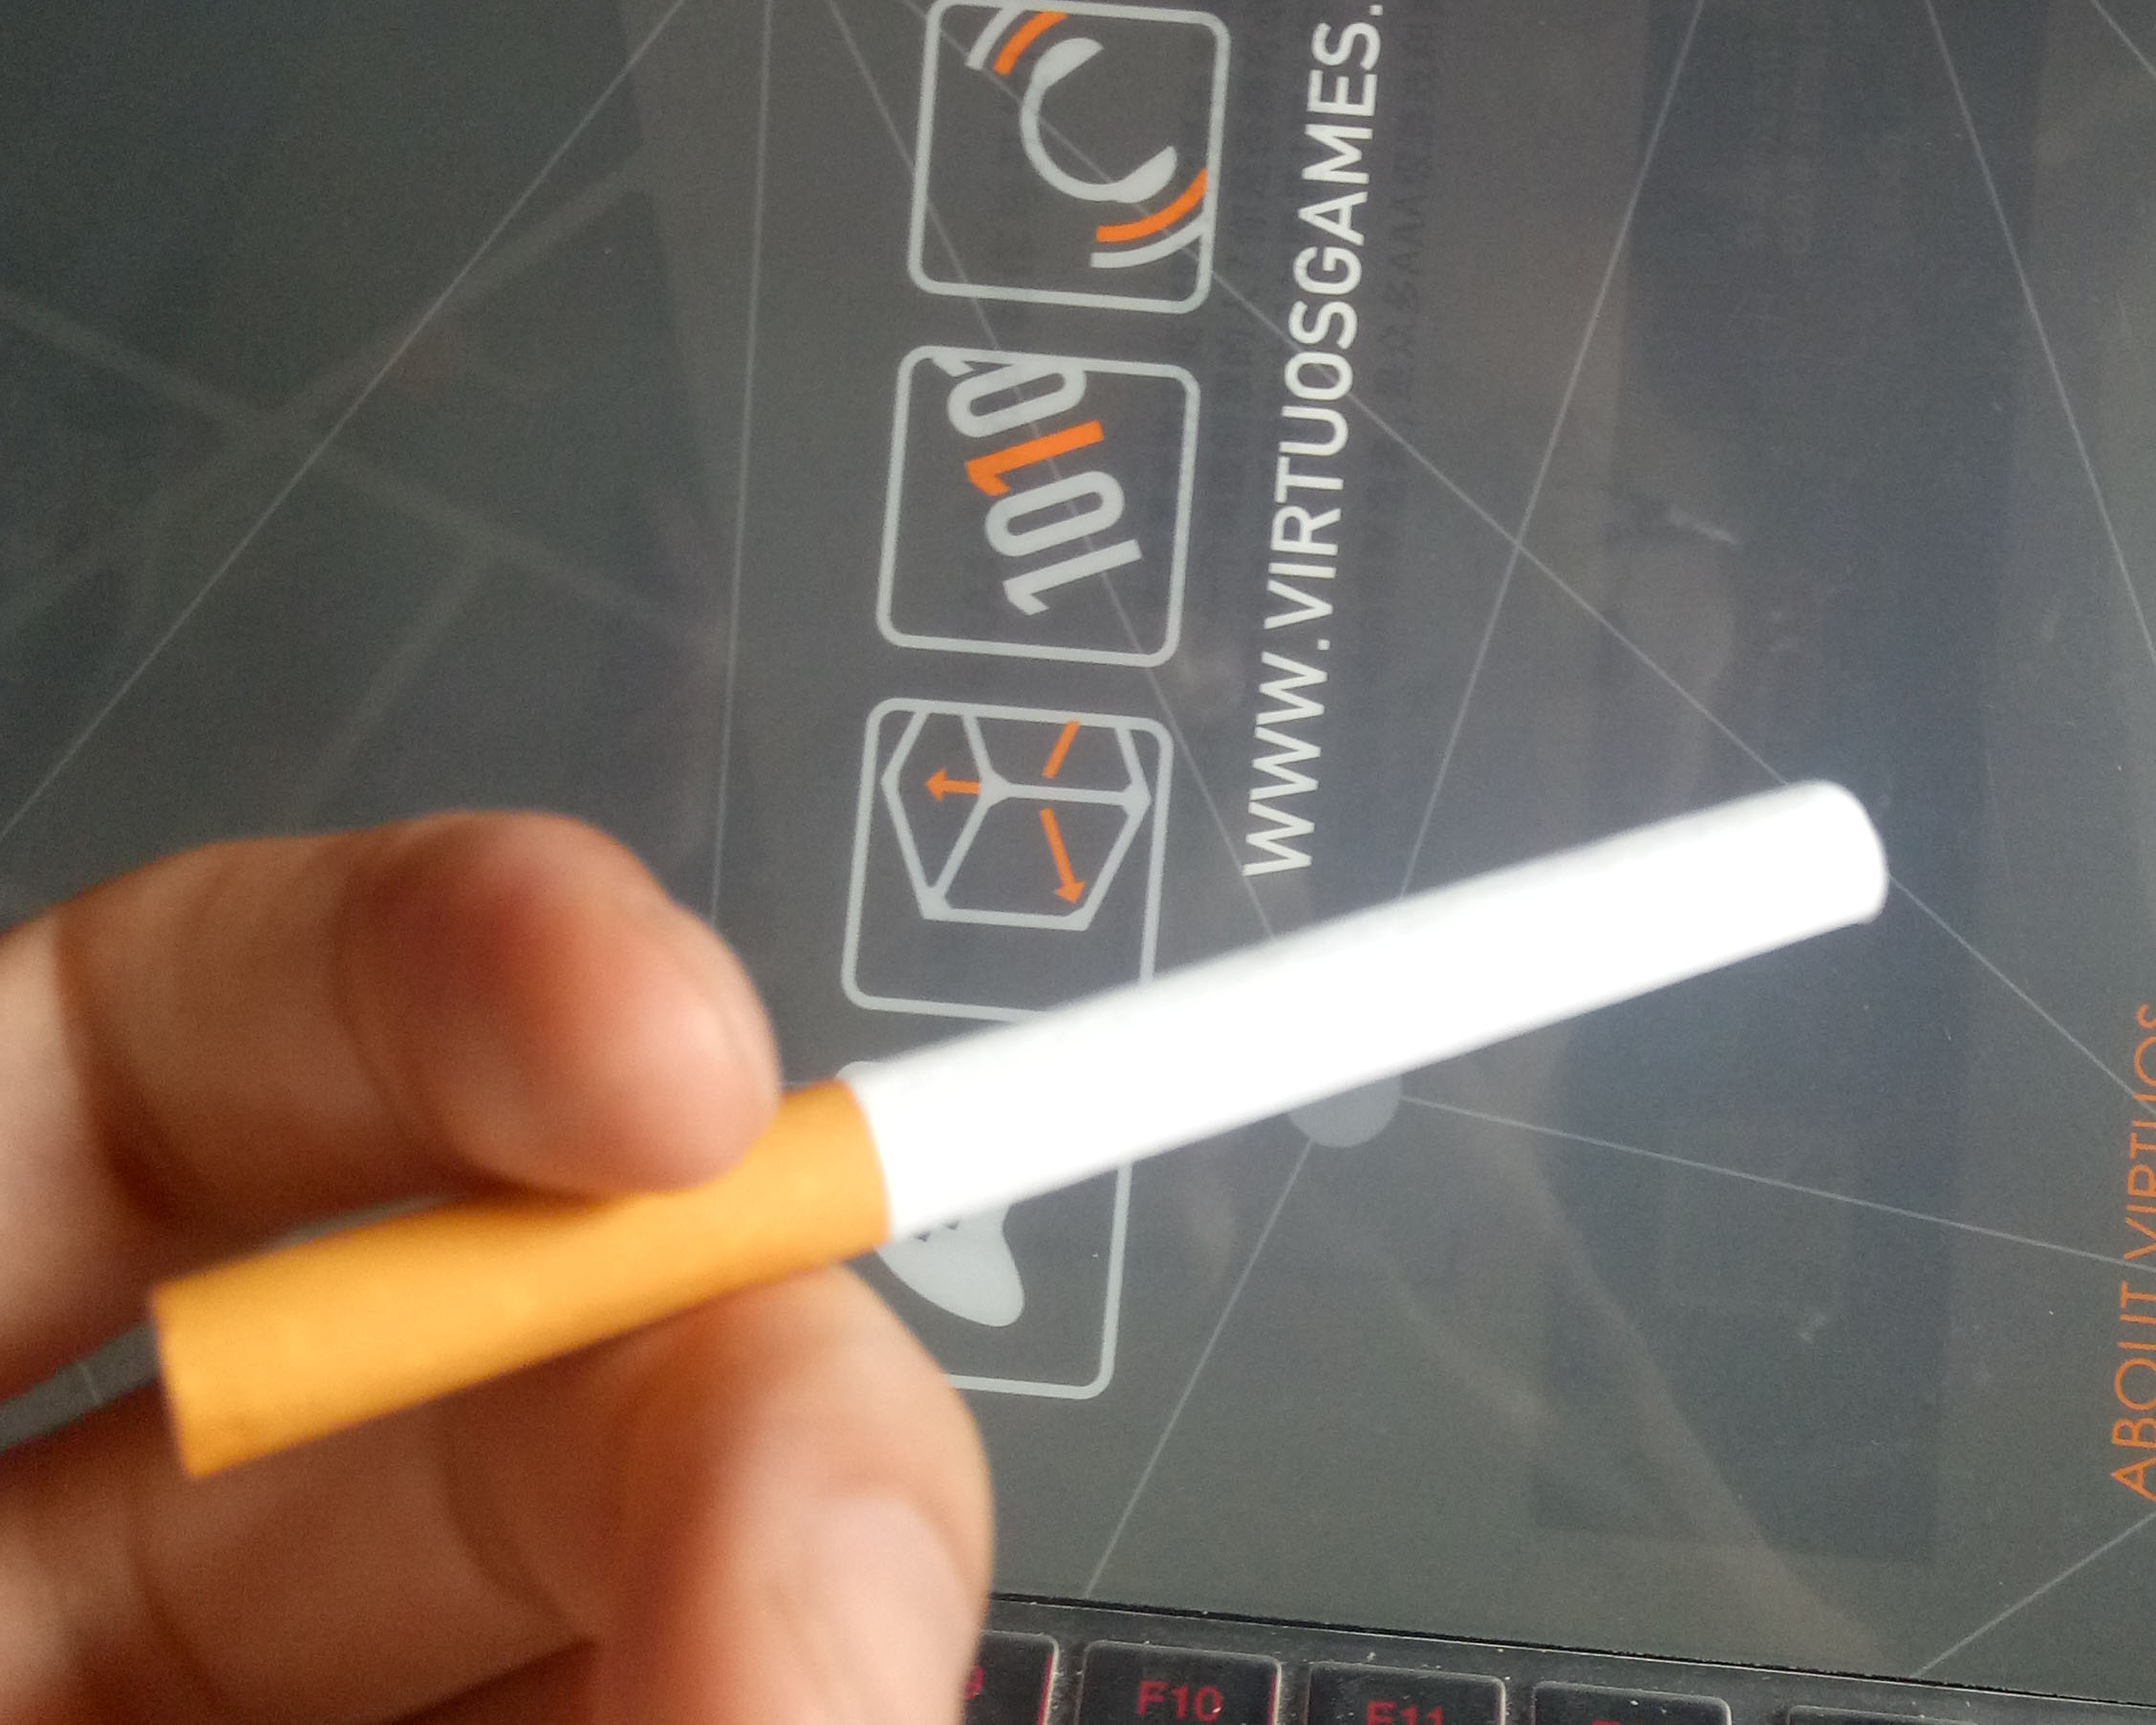cigarette: (114, 727, 1917, 1516)
